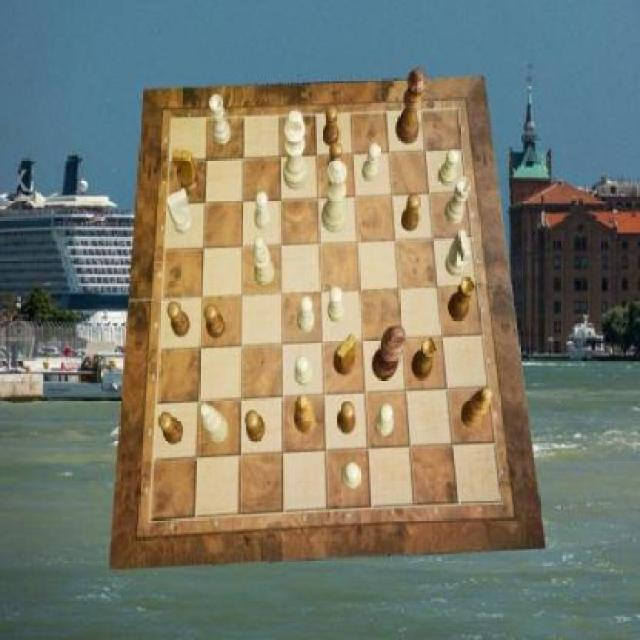bishop: (461, 388, 494, 429), (296, 394, 316, 435)
black-bishop: (372, 325, 408, 379)
black-king: (172, 150, 200, 196), (334, 336, 357, 376)
black-knight: (159, 410, 183, 444), (168, 302, 190, 338), (205, 305, 227, 339), (402, 194, 422, 231), (246, 411, 266, 443), (323, 106, 339, 146), (328, 143, 344, 182), (337, 402, 355, 436)
black-pawn: (397, 66, 428, 144)
black-queen: (448, 275, 474, 321), (411, 337, 437, 379)
black-rook: (200, 404, 229, 444), (252, 237, 275, 286)
white-bishop: (283, 111, 307, 189)
white-king: (168, 190, 195, 236), (446, 231, 471, 277)
white-knight: (438, 149, 461, 187), (297, 295, 315, 333), (374, 403, 394, 437), (254, 191, 271, 229), (362, 143, 379, 181), (328, 288, 345, 322), (343, 463, 363, 491), (296, 356, 314, 386)
white-pawn: (322, 158, 348, 232)
white-queen: (444, 177, 472, 225), (209, 94, 232, 144)
